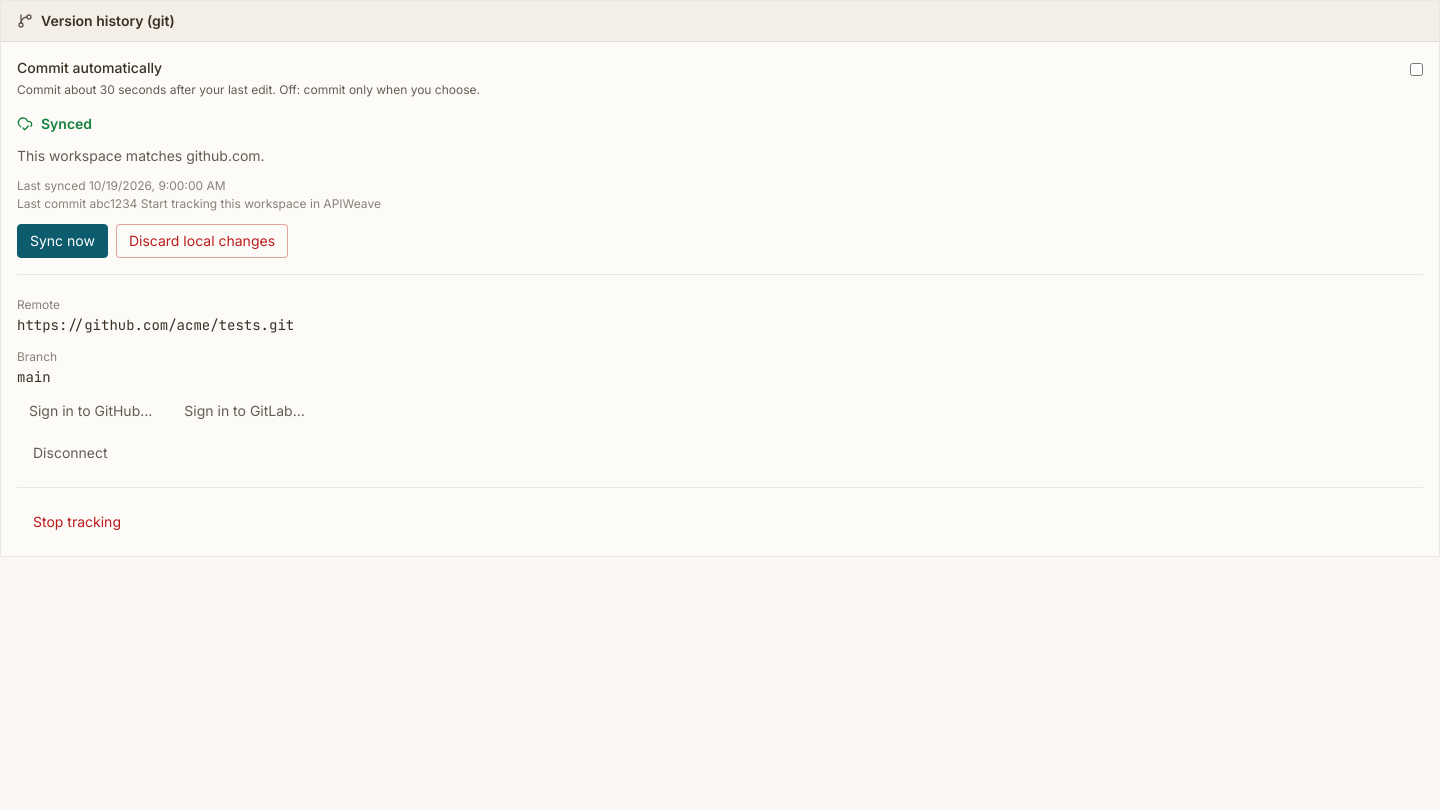
Test: VersionHistoryPanel › shows why a sync stopped from the status it resolves with
The width and height of the screenshot is (1440, 810).
Step 1. Click the button "Sync now" → (62,241), box [17,224,108,258]
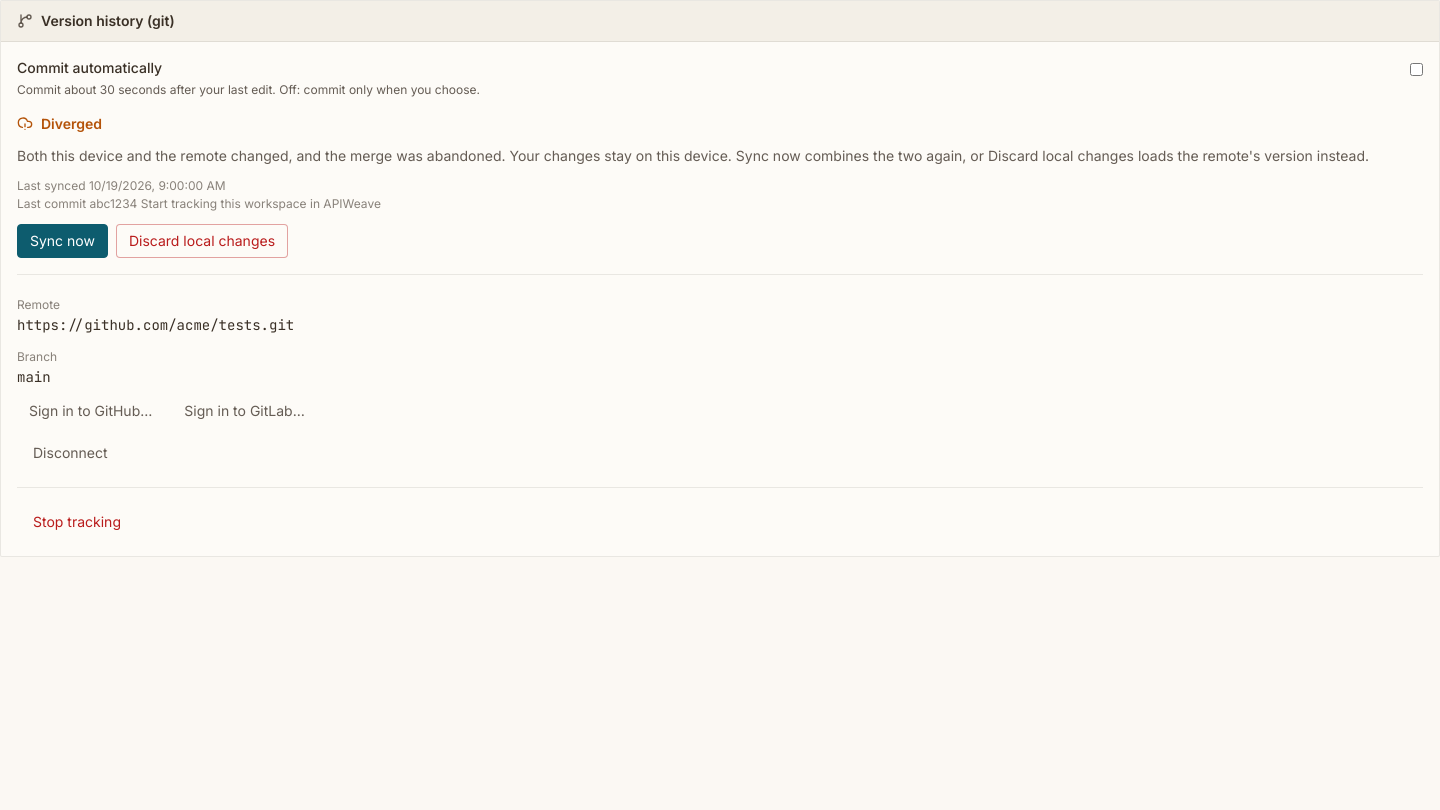
Expected: the button "Discard local changes" is shown, [116,224,288,258]
Expected: the text "Both this device and the remote changed" is shown, [17,147,1369,164]
